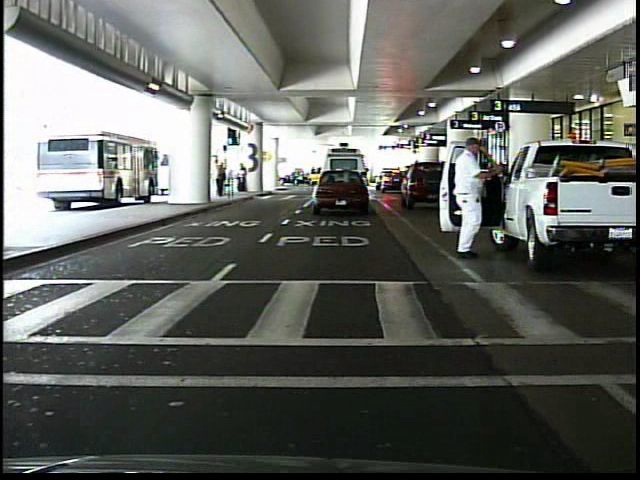person: (450, 130, 489, 261), (214, 155, 228, 201), (234, 163, 250, 196)
